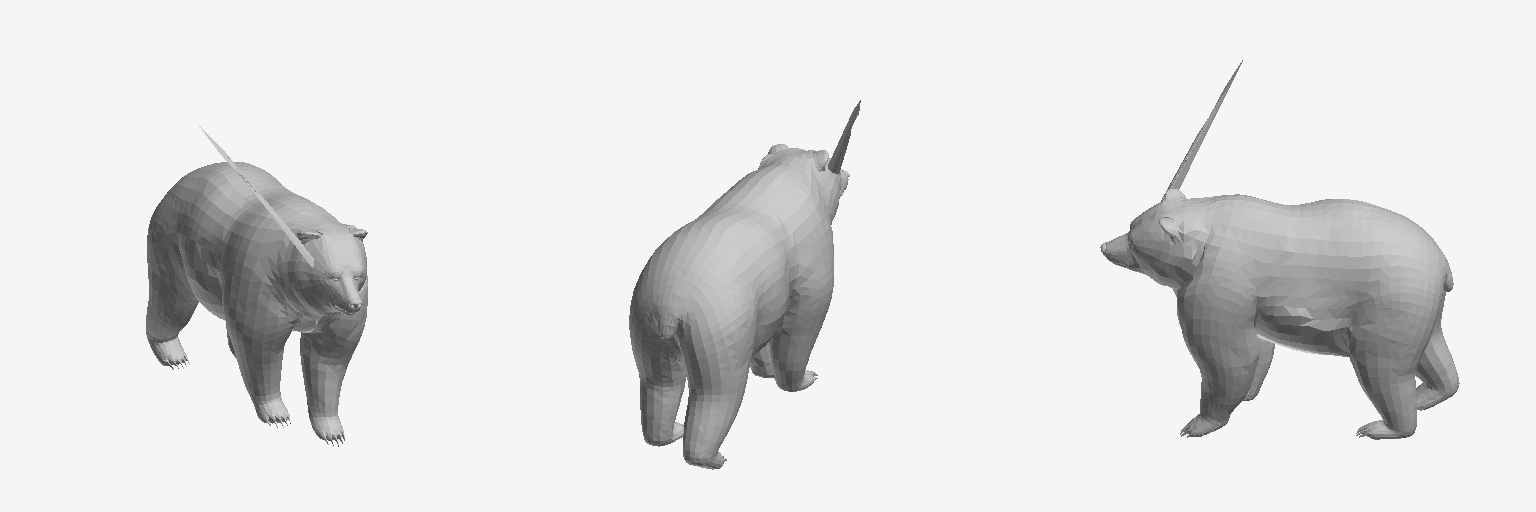
The model's file is Bear0131.obj.
3 views of the same model, side by side, from view 1: azimuth 30°, elevation 25°; view 2: azimuth 150°, elevation 25°; view 3: azimuth 270°, elevation 25° (orthographic).
Parts seen in each view (by area): view 1: Object_237; view 2: Object_237; view 3: Object_237.
Part boxes in pixels (bbox=[...]): Object_237: bbox=[146, 126, 367, 446]; Object_237: bbox=[629, 100, 860, 469]; Object_237: bbox=[1100, 60, 1459, 439].
Bounding box in the file's own units: 2.39 × 4.92 × 4.92.